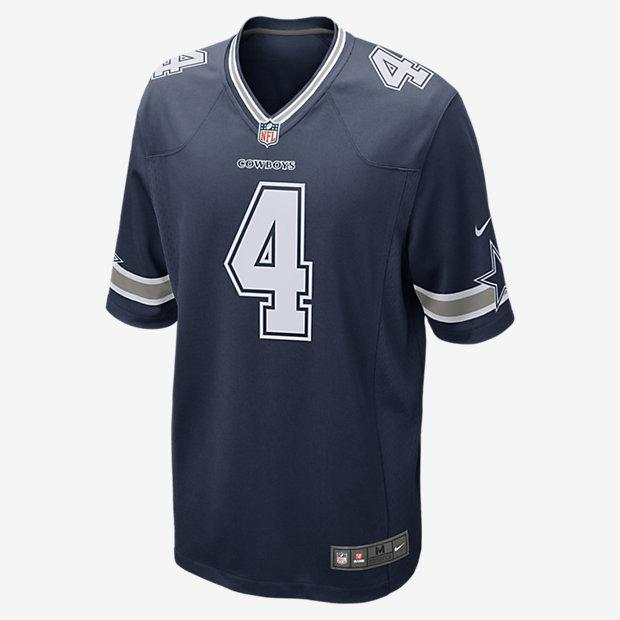teeshirt: (110, 11, 527, 589)
